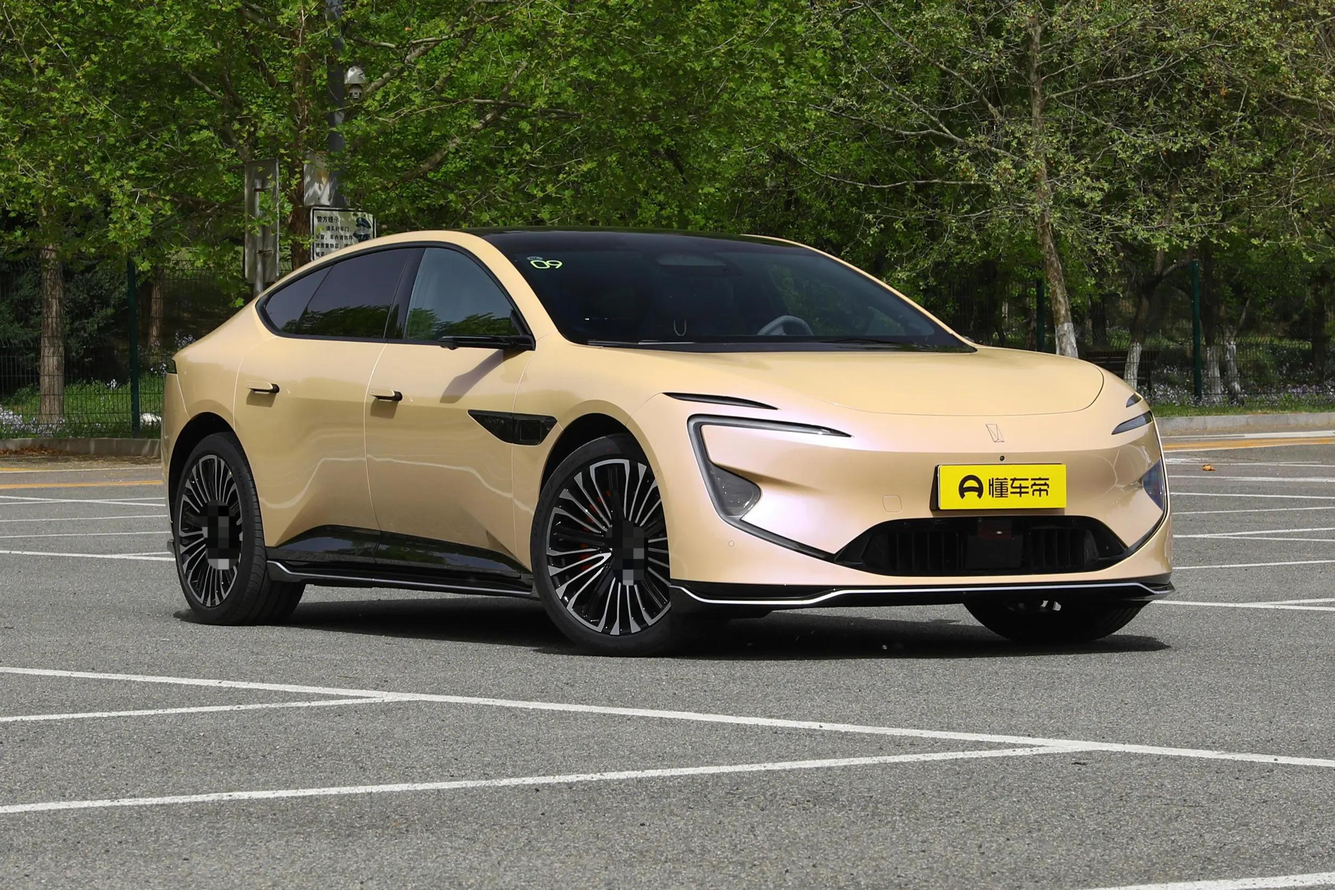AVATR: (985, 424, 1004, 442)
